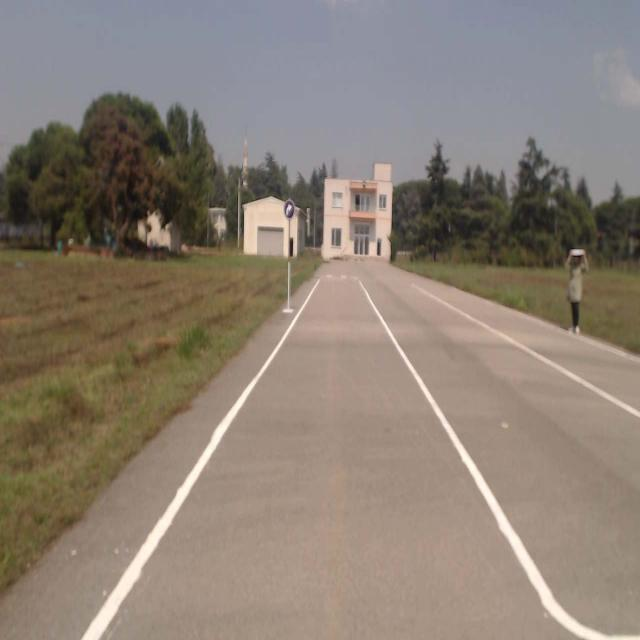sag: (284, 199, 294, 218)
